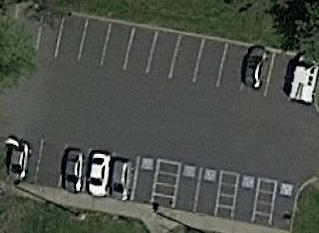parkingspot: (33, 10, 319, 110), (3, 133, 162, 208), (171, 160, 224, 219), (268, 177, 303, 232), (230, 170, 263, 226)
